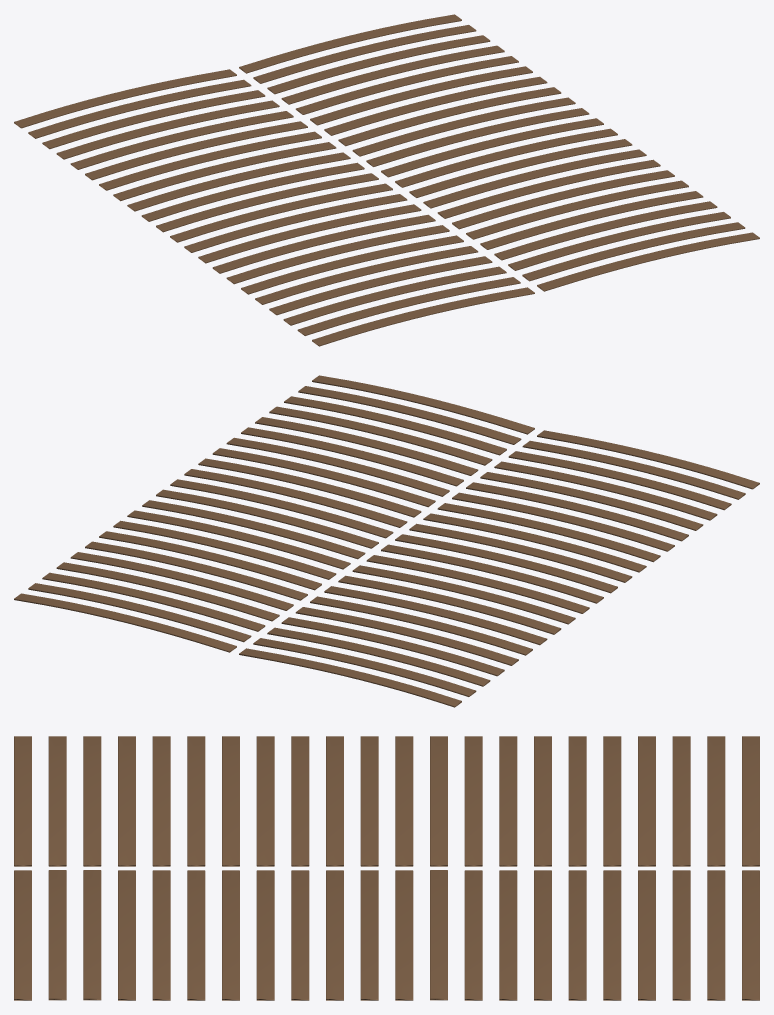
Rendered from edwin_king_size_bed_fabric_junipergreem_frame_0_lev1.glb.
3 renders of one model, top to bottom at view 1: azimuth 30°, elevation 25°; view 2: azimuth 150°, elevation 25°; view 3: azimuth 270°, elevation 25°, orthographic. The views are drawn at different scales.
Parts seen in each view (by area): view 1: edwin_king_size_bed_fabric_junipergreem_frame_0_lev1; view 2: edwin_king_size_bed_fabric_junipergreem_frame_0_lev1; view 3: edwin_king_size_bed_fabric_junipergreem_frame_0_lev1.
Part boxes in pixels (left/top/right/bottom): edwin_king_size_bed_fabric_junipergreem_frame_0_lev1: left=14, top=14, right=759, bottom=346; edwin_king_size_bed_fabric_junipergreem_frame_0_lev1: left=14, top=375, right=759, bottom=707; edwin_king_size_bed_fabric_junipergreem_frame_0_lev1: left=14, top=736, right=759, bottom=1000.
Size of the model in its own units: 8.77 by 0.1098 by 10.52.
